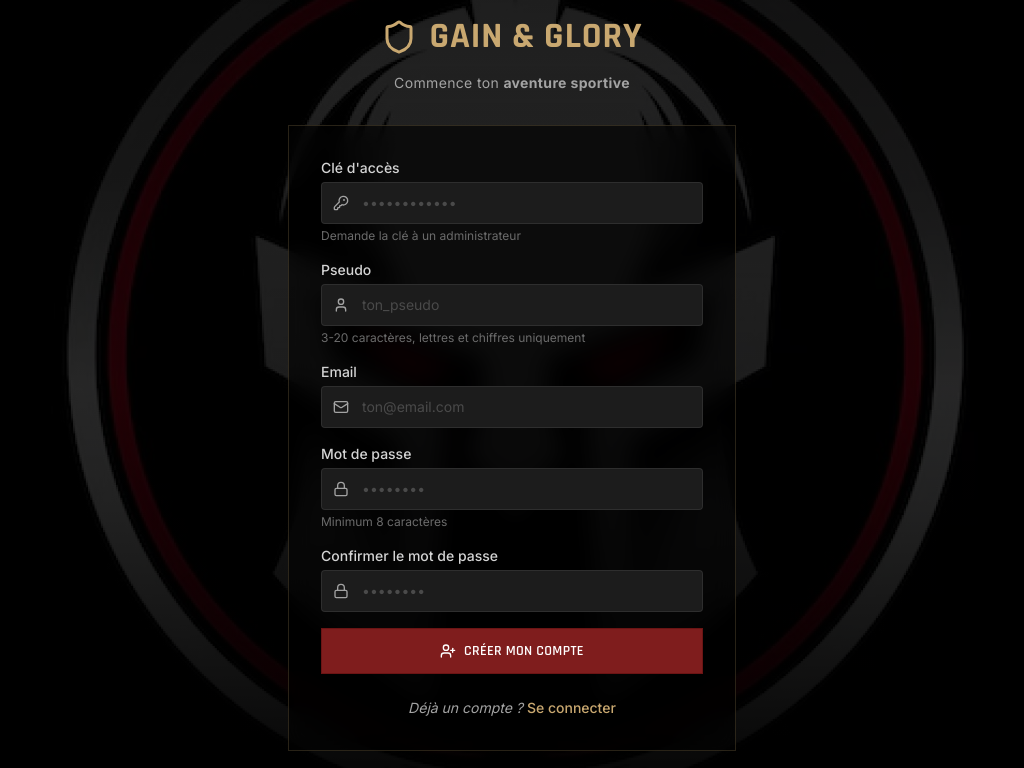
it: RegisterPage › affiche une erreur si la clé d'accès est vide
The width and height of the screenshot is (1024, 768).
Click the button "CRÉER MON COMPTE": [512, 651] box [321,628,703,674]
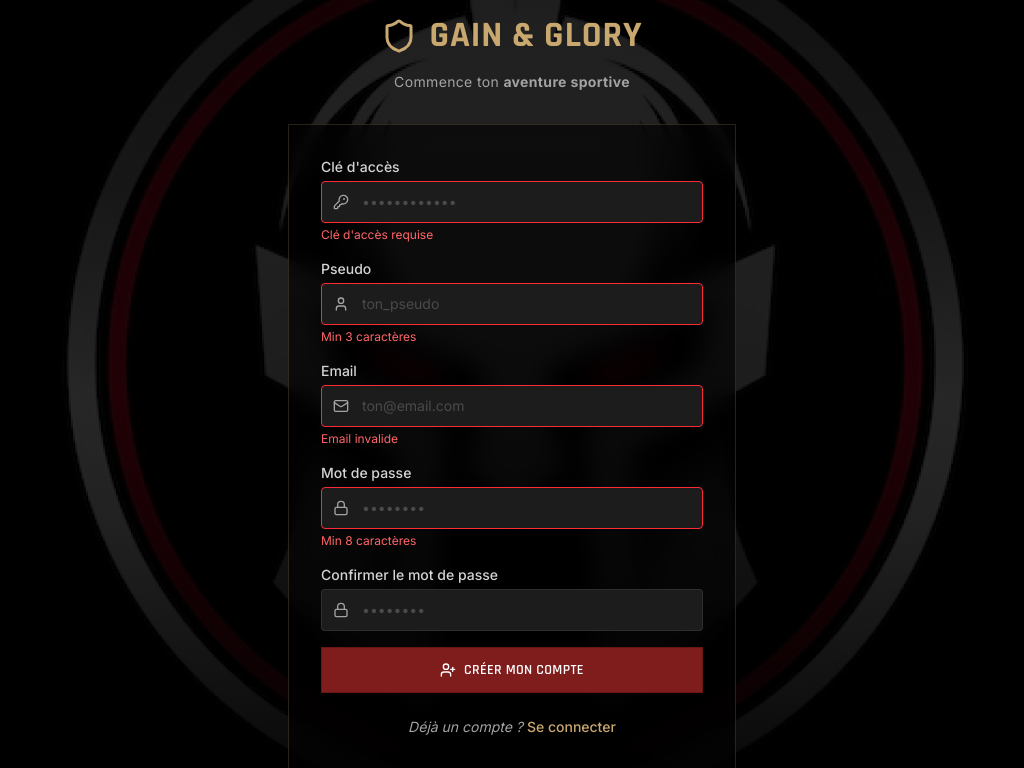
Check: the text "Clé d'accès requise" is shown, box [321,227,433,242]
